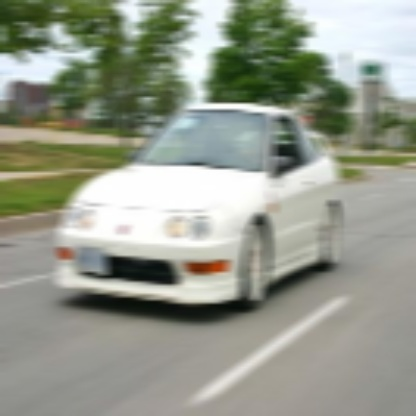Vehicle: (57, 104, 344, 316)
